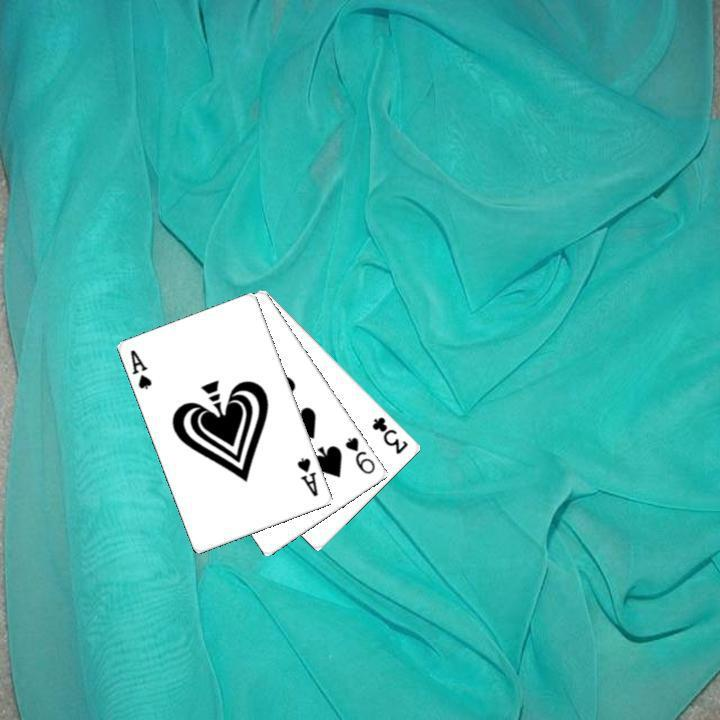3: (368, 412, 411, 456)
9: (341, 433, 378, 476)
A: (126, 345, 154, 392), (293, 453, 320, 499)
